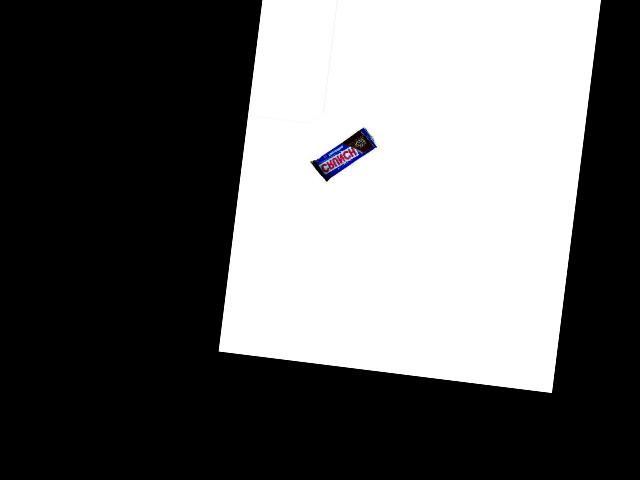chocolate: (307, 120, 380, 188)
